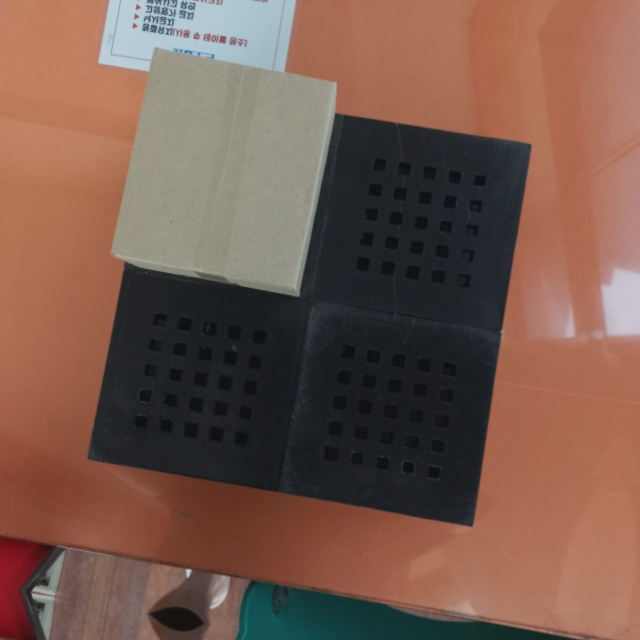box: (106, 44, 339, 298)
pallet: (73, 87, 543, 534)
